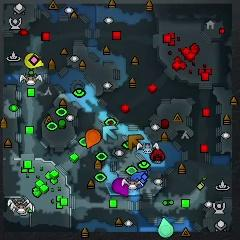p1: (130, 170, 147, 190)
p2: (158, 217, 174, 237)
p3: (112, 178, 129, 196)
p4: (24, 53, 45, 68)
p5: (86, 129, 101, 148)
x3: (102, 125, 118, 141)
x5: (128, 134, 144, 148)
